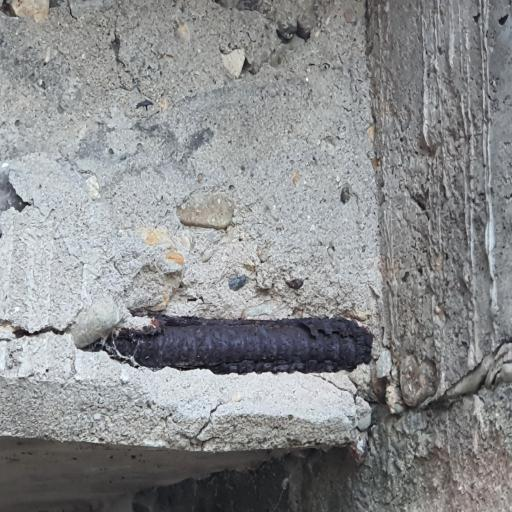exposed_rebar: (103, 315, 373, 373)
